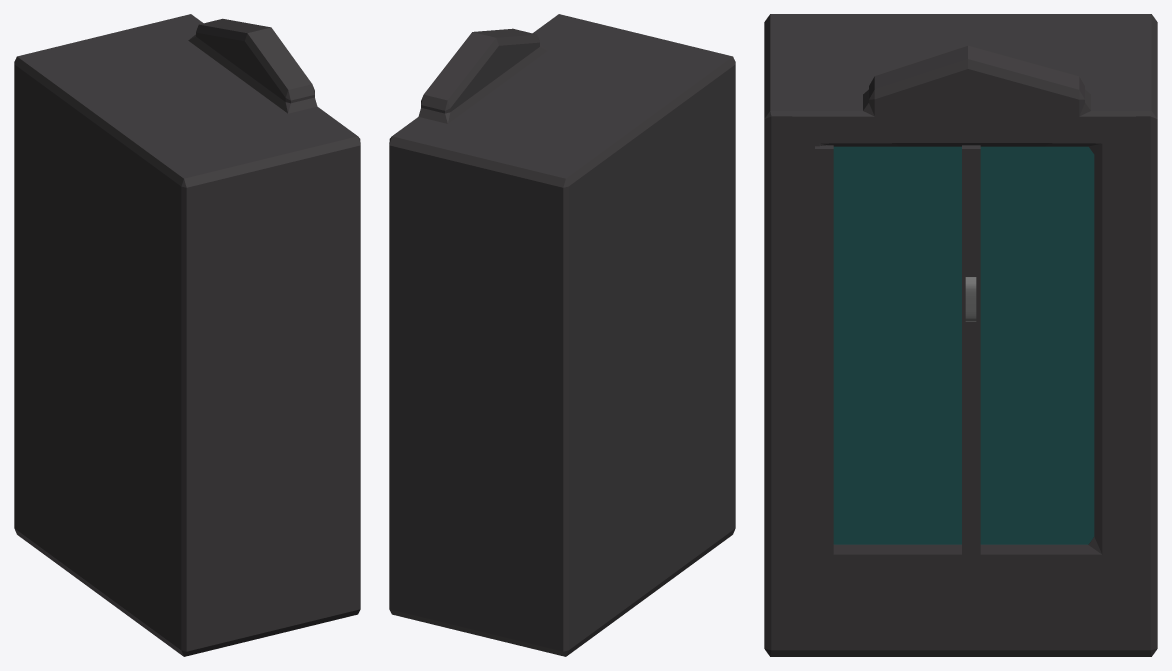
File: wardrobe2.fbx
3 views of the same model, side by side, from view 1: azimuth 30°, elevation 25°; view 2: azimuth 150°, elevation 25°; view 3: azimuth 270°, elevation 25° (orthographic). The views are drawn at different scales.
Visible parts, largest first — view 1: Cube; view 2: Cube; view 3: Cube, Cube.002, Cube.003.
Boxes of the visible parts, x1,y1,x2,y2 form: Cube: (14,14,360,656); Cube: (389,14,735,656); Cube: (764,14,1157,656); Cube.002: (815,145,961,555); Cube.003: (962,145,1094,555).
Bounding box in the file's own units: 225 × 558 × 333.
